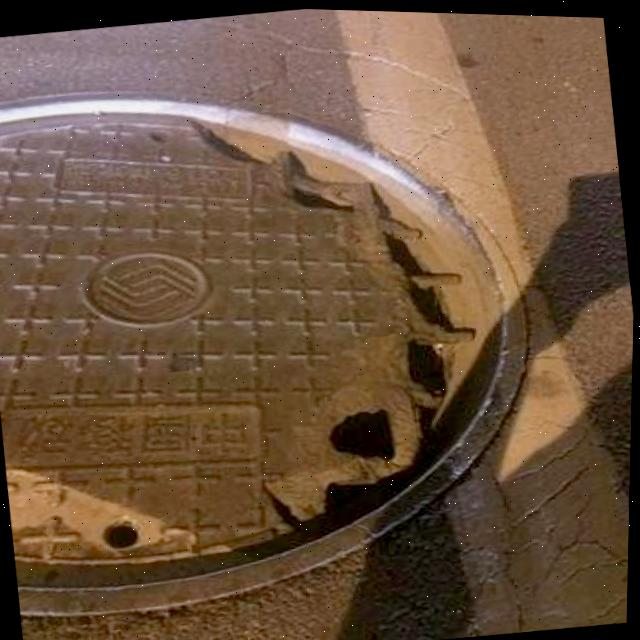manhole: (0, 38, 558, 632)
